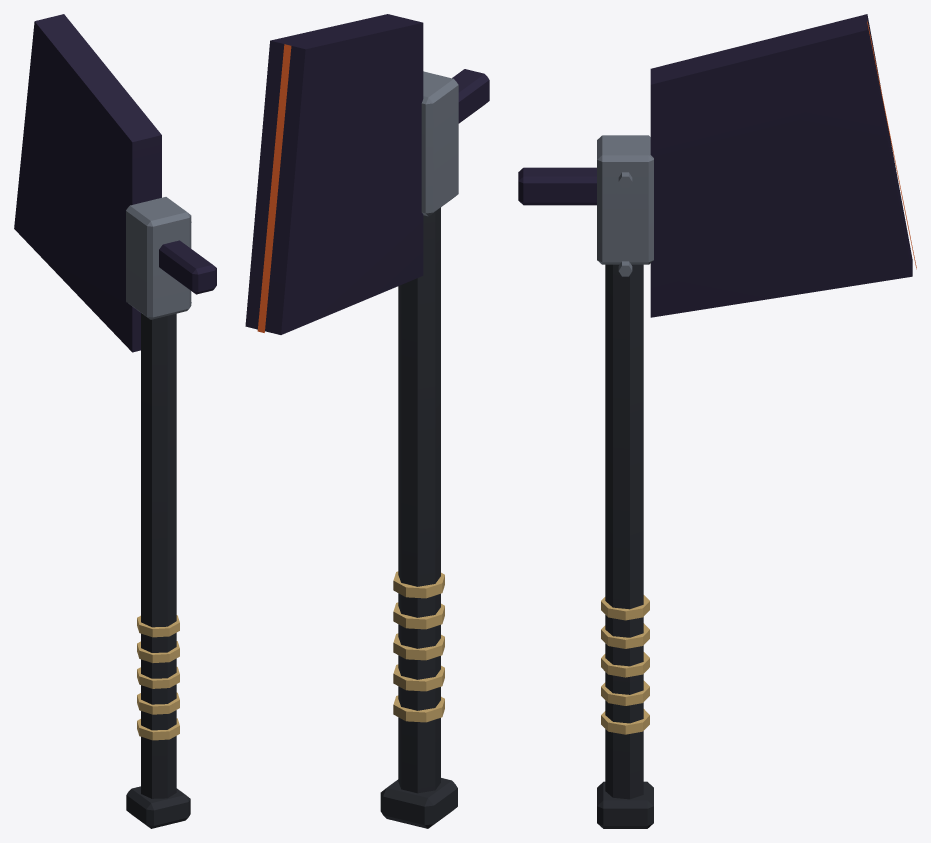
Rendered from item_axe_strong.glb.
3 views of the same model, side by side, from view 1: azimuth 30°, elevation 25°; view 2: azimuth 150°, elevation 25°; view 3: azimuth 270°, elevation 25° (orthographic). The views are drawn at different scales.
Parts seen in each view (by area): view 1: item_axe_strong, item_axe_strong_detail; view 2: item_axe_strong, item_axe_strong_detail; view 3: item_axe_strong, item_axe_strong_detail.
Boxes of the visible parts, <box> form: item_axe_strong: <box>14,14,216,828</box>; item_axe_strong_detail: <box>137,222,191,740</box>; item_axe_strong: <box>245,14,489,828</box>; item_axe_strong_detail: <box>393,571,444,722</box>; item_axe_strong: <box>518,14,916,828</box>; item_axe_strong_detail: <box>601,172,649,734</box>.
Size of the model in its own units: 0.106 by 1.4 by 0.632.
